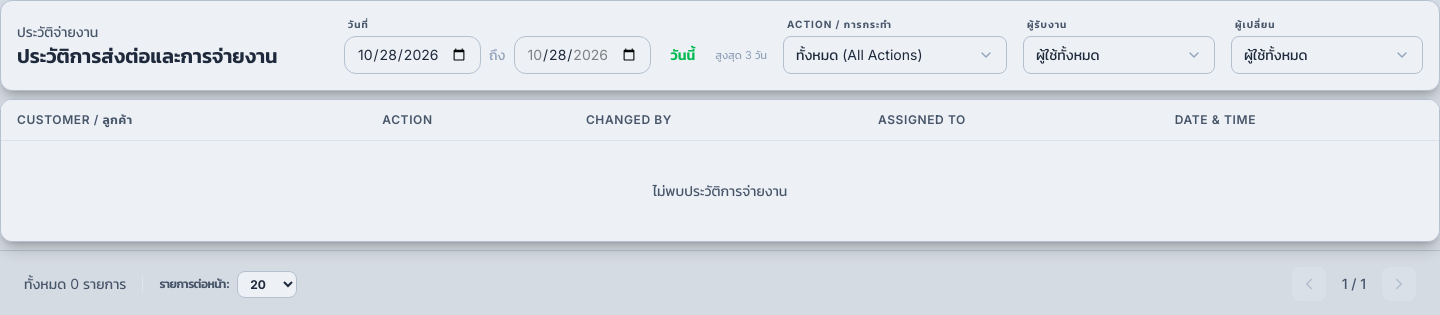
Test case: AssignHistory — searchable filters keep identical behavior (no date filter) › typing in the combo search narrows options (the new UX) without changing the value semantics
Click the button "ผู้ใช้ทั้งหมด" below "ผู้รับงาน" at [1119, 55], box [1023,36,1215,74]
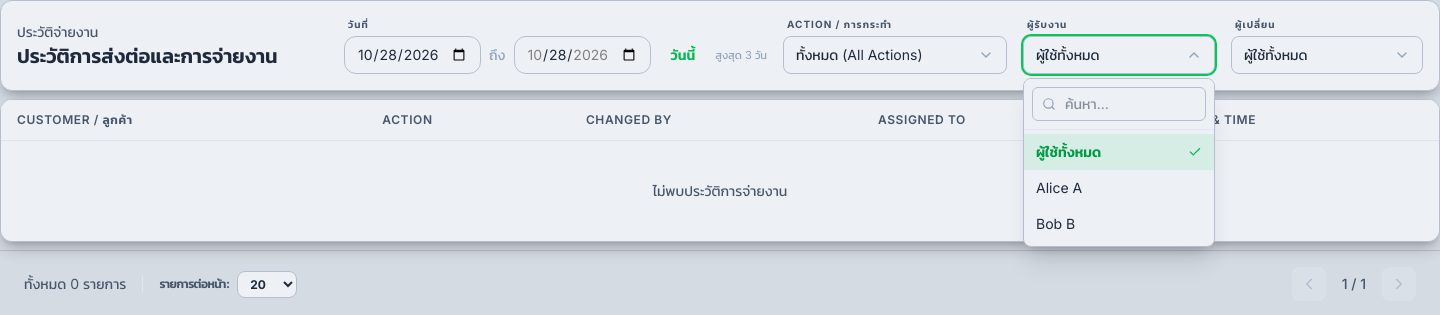
expect the text "Alice A" is shown: met, box [1036,179,1082,196]
Type "bob" into the field with placeholder "ค้นหา…" at [1119, 104], box [1032,87,1206,121]
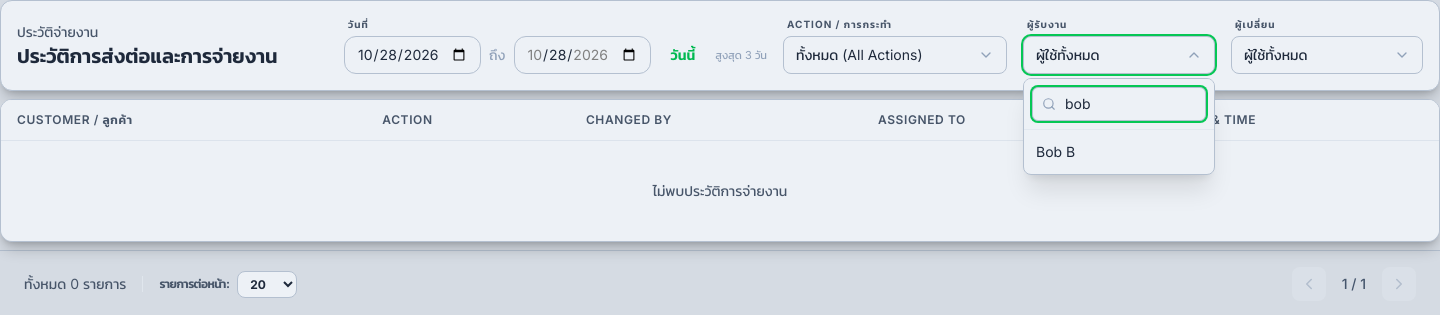
expect the text "Bob B" is shown: met, box [1036,143,1075,160]
expect the button "Alice A" is gone: met
